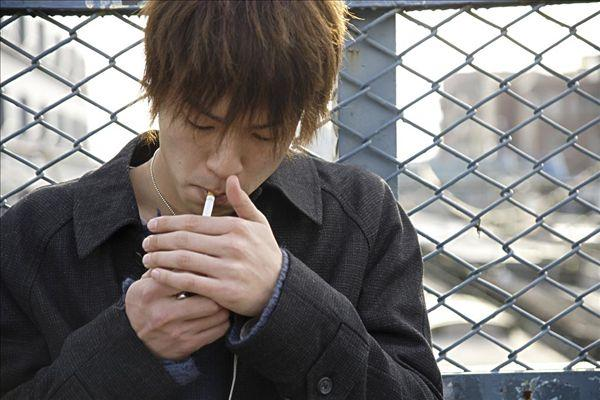smoke: (196, 182, 219, 227)
